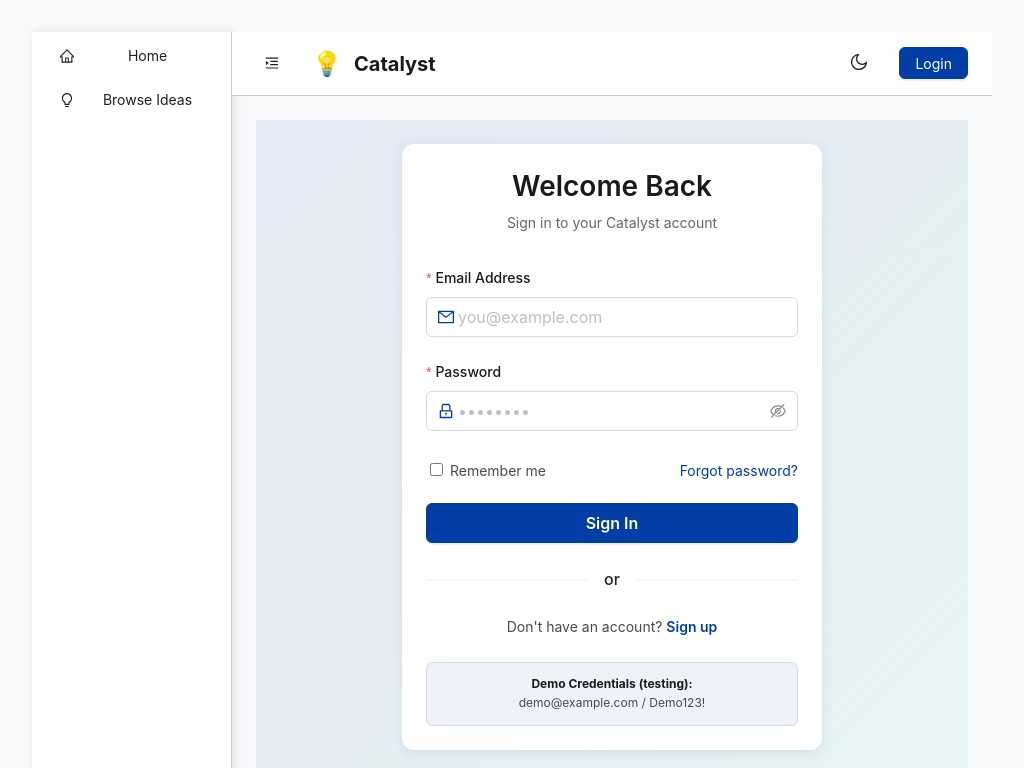
Test: LoginPage Component › should validate email field is required
Click the button with test id "login-submit". click: (612, 523)
box: [426, 503, 798, 543]
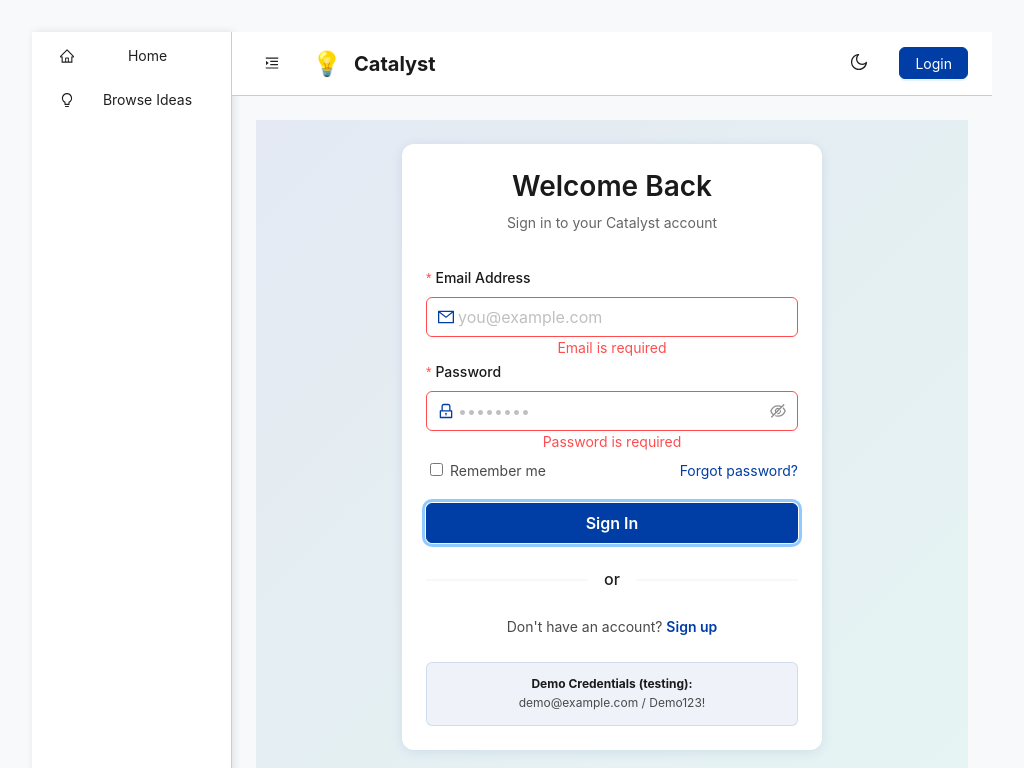
Check: the text "Email is required" is shown, box [557, 339, 667, 356]
